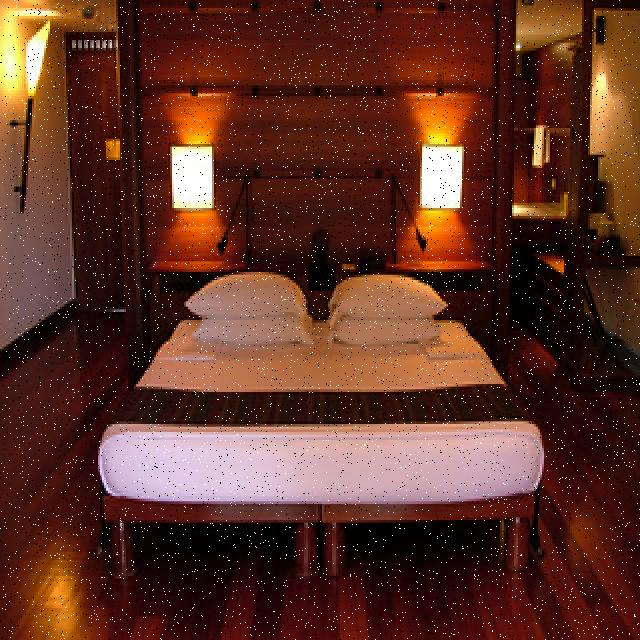bed: (154, 168, 546, 586)
